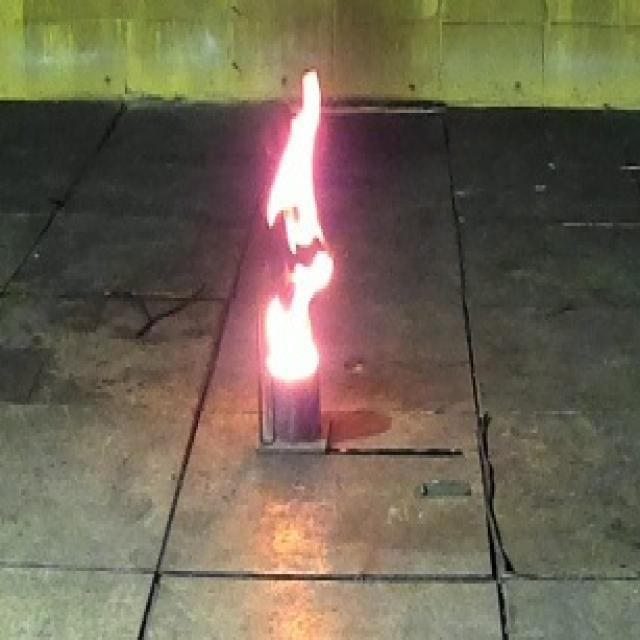Fire: (265, 68, 334, 381)
